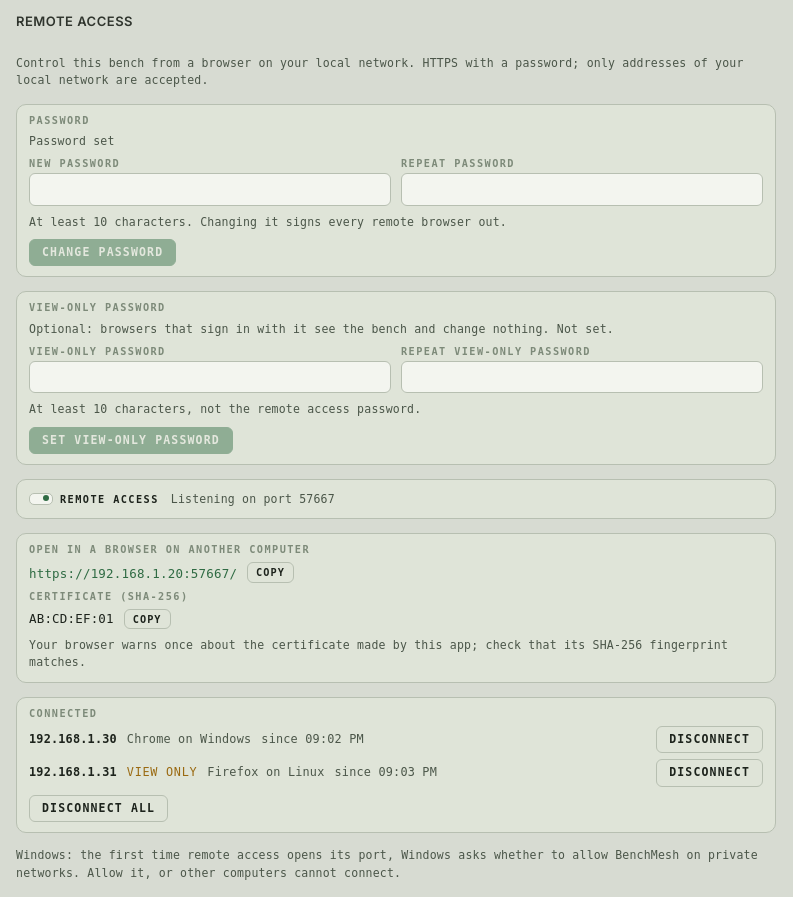
Scenario: Remote access settings › lists sessions and disconnects one or all
The width and height of the screenshot is (793, 897).
expect the text "Chrome on Windows" is shown: met, box [127,732,251,748]
Step 1. Click the button with aria-label "Disconnect 192.168.1.30" → x=710, y=740, box [656,726,763,753]
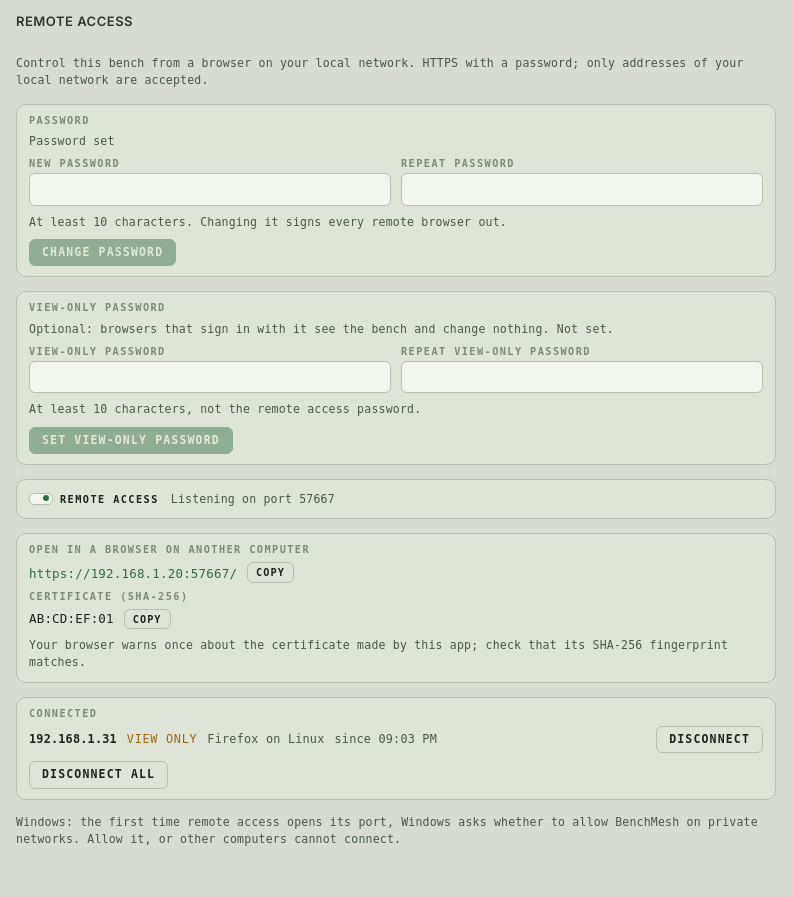
Step 2. Click the button "Disconnect all" → x=99, y=775, box [29,761,168,789]
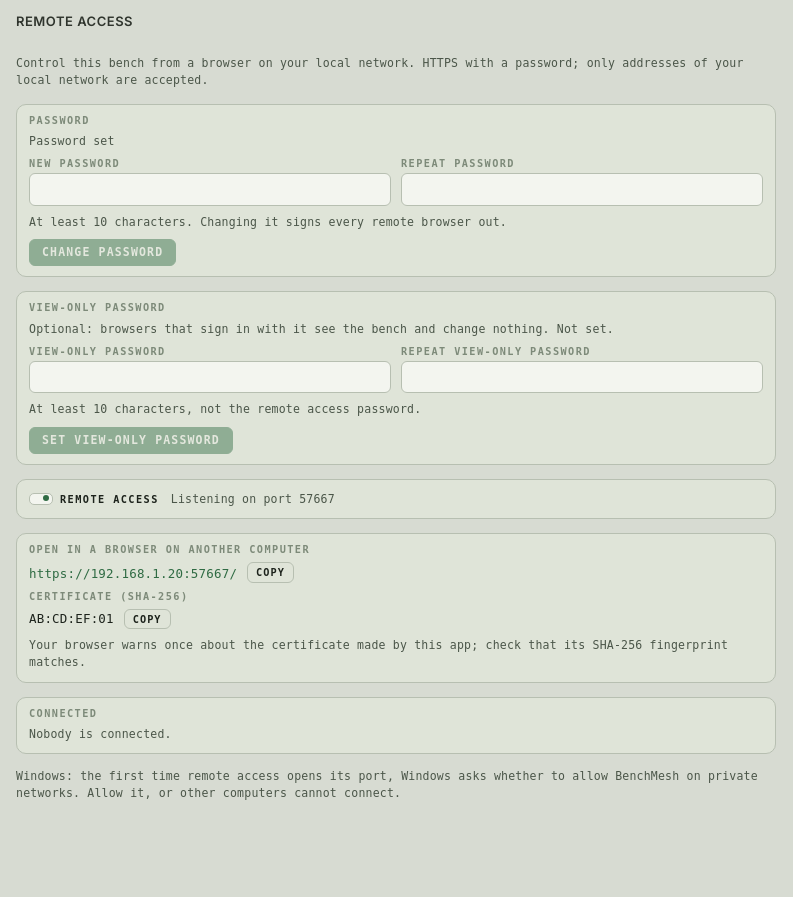
expect the text "Nobody is connected." is shown: met, box [29,727,172,741]
